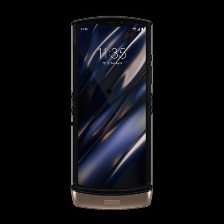phone: (63, 11, 156, 215)
